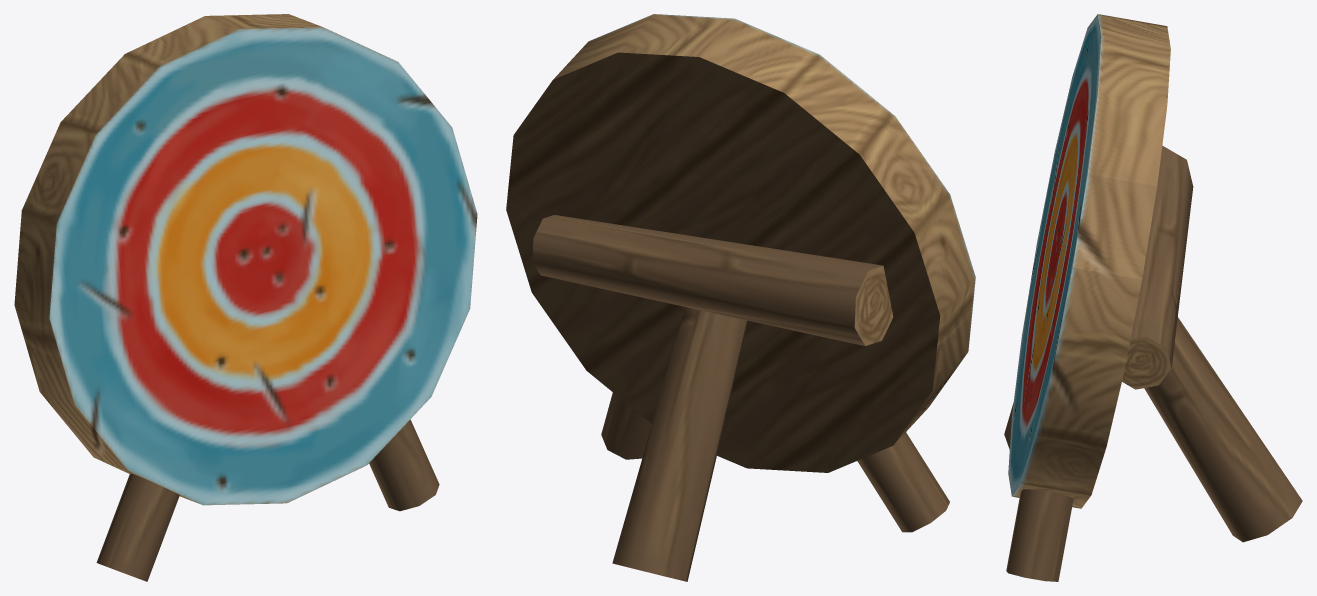
File: Camp1_Shooting_shield.fbx
The picture shows the model from 3 angles, left to right: view 1: azimuth 30°, elevation 25°; view 2: azimuth 150°, elevation 25°; view 3: azimuth 270°, elevation 25°; orthographic projection. The views are drawn at different scales.
Parts seen in each view (by area): view 1: polySurface155; view 2: polySurface155; view 3: polySurface155.
Boxes of the visible parts, x1,y1,x2,y2 form: polySurface155: [14, 14, 477, 581]; polySurface155: [506, 14, 975, 581]; polySurface155: [1004, 14, 1302, 581].
Size of the model in its own units: 97.6 by 109 by 59.41.
Materials: 1 (1 with a texture image).
